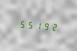five: (26, 18, 33, 30), (18, 18, 25, 29)
nine: (42, 20, 49, 31)
one: (34, 19, 41, 31)
two: (50, 21, 57, 32)
